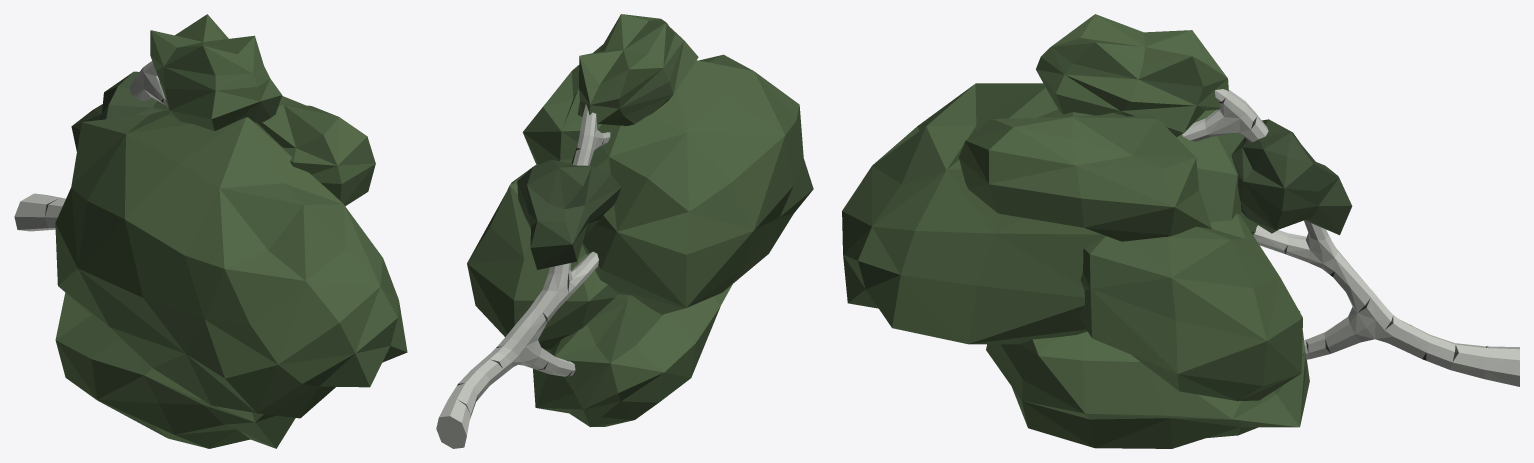
The model's file is tree-birch-1-36-ft.obj.
The picture shows the model from 3 angles, left to right: view 1: azimuth 30°, elevation 25°; view 2: azimuth 150°, elevation 25°; view 3: azimuth 270°, elevation 25°; orthographic projection. The views are drawn at different scales.
Parts seen in each view (by area): view 1: tree-birch-1-36-ft; view 2: tree-birch-1-36-ft; view 3: tree-birch-1-36-ft.
Boxes of the visible parts, <box> form: tree-birch-1-36-ft: <box>14,14,407,448</box>; tree-birch-1-36-ft: <box>436,14,813,448</box>; tree-birch-1-36-ft: <box>842,14,1519,448</box>.
Size of the model in its own units: 206 by 300 by 432.
